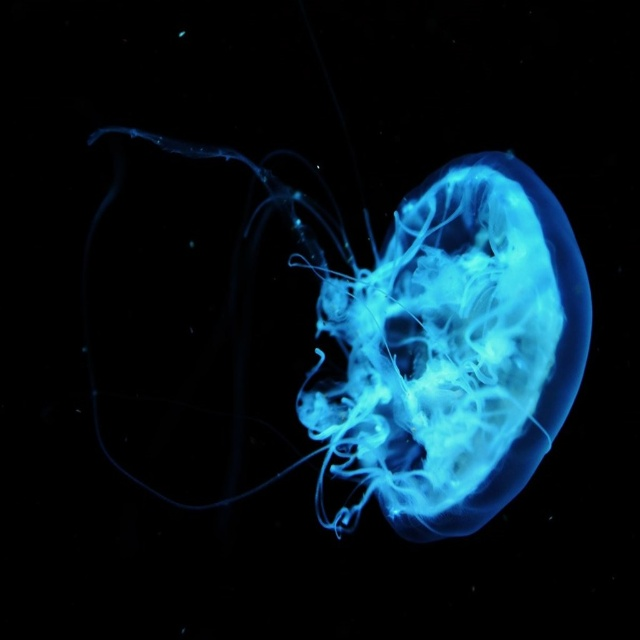Jellyfish: (89, 123, 594, 547)
